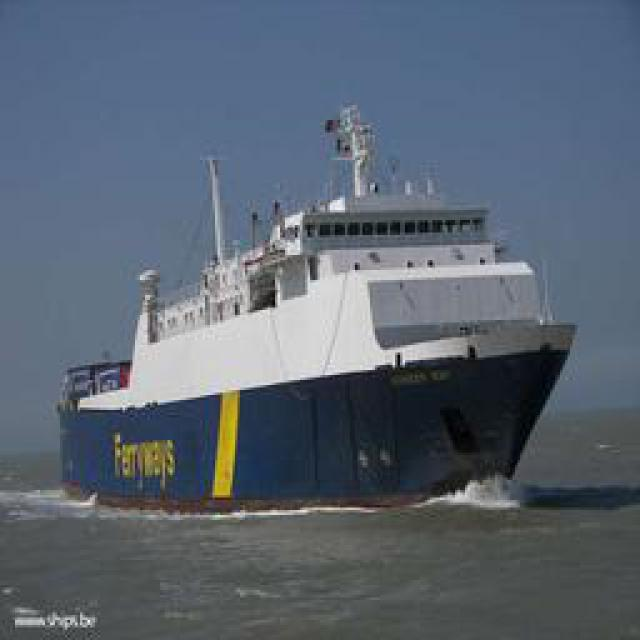Ship: (53, 103, 578, 508)
